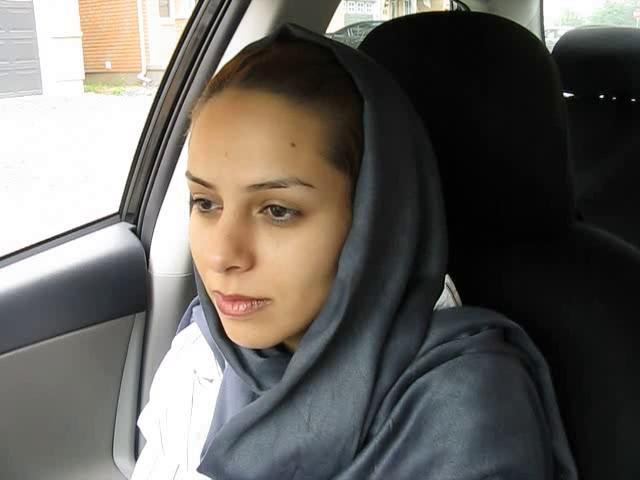no_yawn: (197, 274, 289, 326)
open_eyeL: (184, 181, 226, 224)
open_eyeR: (244, 188, 313, 235)
